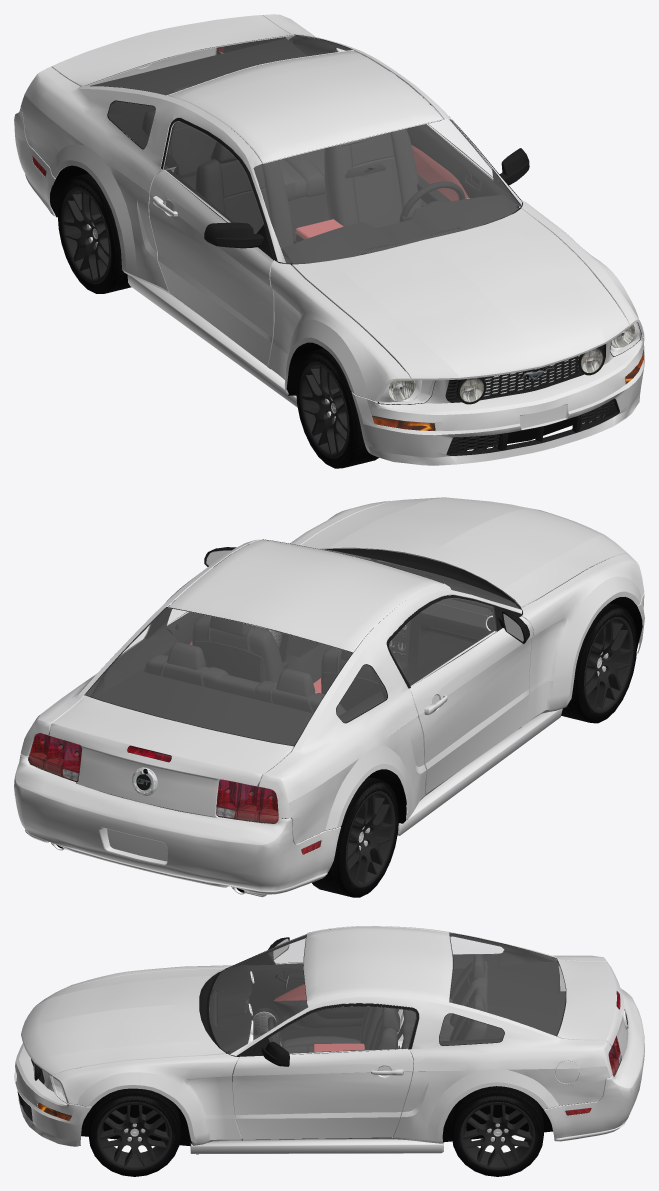
File: 2005_ford_mustang_gt.glb
The picture shows the model from 3 angles, top to bottom: view 1: azimuth 30°, elevation 25°; view 2: azimuth 150°, elevation 25°; view 3: azimuth 270°, elevation 25°; orthographic projection. The views are drawn at different scales.
Parts seen in each view (by area): view 1: hood_Carpaint Flakes Ruby_0, glass_Glass Clear_0, body_Carpaint Flakes Ruby_0, roof_Carpaint Flakes Ruby_0, msngv6front bumper_Carpaint Flakes Ruby_0, intdash, rightdoor_Carpaint Flakes Ruby_0, fseats_Material #205_0, fenders_Carpaint Flakes Ruby_0, trunk_Carpaint Flakes Ruby_0, rightdoor_Material #300_0, msngv6front bumper_Car_Plastics_0 (+19 smaller); view 2: glass_Glass Clear_0, msngv6rearbumper_Carpaint Flakes Ruby_0, body_Carpaint Flakes Ruby_0, hood_Carpaint Flakes Ruby_0, roof_Carpaint Flakes Ruby_0, trunk_Carpaint Flakes Ruby_0, intdash, rightdoor_Carpaint Flakes Ruby_0, fenders_Carpaint Flakes Ruby_0, rightdoor_Material #300_0, rseats_Material #205_0, tailight_Material #78_0 (+15 smaller); view 3: body_Carpaint Flakes Ruby_0, glass_Glass Clear_0, hood_Carpaint Flakes Ruby_0, leftdoor_Carpaint Flakes Ruby_0, roof_Carpaint Flakes Ruby_0, fenders_Carpaint Flakes Ruby_0, intdash, leftdoor_Glass Clear_0, rightdoor_Car_Plastics_0, msngv6rearbumper_Carpaint Flakes Ruby_0, trunk_Carpaint Flakes Ruby_0, sideskirt (+12 smaller).
Boxes of the visible parts, <box> form: hood_Carpaint Flakes Ruby_0: <box>292,209,629,380</box>; glass_Glass Clear_0: <box>87,35,520,263</box>; body_Carpaint Flakes Ruby_0: <box>20,14,521,317</box>; roof_Carpaint Flakes Ruby_0: <box>168,50,443,163</box>; msngv6front bumper_Carpaint Flakes Ruby_0: <box>351,334,644,465</box>; intdash: <box>90,38,519,354</box>; rightdoor_Carpaint Flakes Ruby_0: <box>149,170,274,366</box>; fseats_Material #205_0: <box>195,128,421,248</box>; fenders_Carpaint Flakes Ruby_0: <box>268,200,644,401</box>; trunk_Carpaint Flakes Ruby_0: <box>51,15,293,86</box>; rightdoor_Material #300_0: <box>164,122,263,233</box>; msngv6front bumper_Car_Plastics_0: <box>445,344,619,455</box>; glass_Glass Clear_0: <box>86,544,519,745</box>; msngv6rearbumper_Carpaint Flakes Ruby_0: <box>14,754,340,894</box>; body_Carpaint Flakes Ruby_0: <box>20,539,521,844</box>; hood_Carpaint Flakes Ruby_0: <box>300,497,628,607</box>; roof_Carpaint Flakes Ruby_0: <box>168,539,442,652</box>; trunk_Carpaint Flakes Ruby_0: <box>49,695,293,817</box>; intdash: <box>94,559,536,792</box>; rightdoor_Carpaint Flakes Ruby_0: <box>410,616,533,794</box>; fenders_Carpaint Flakes Ruby_0: <box>290,500,644,724</box>; rightdoor_Material #300_0: <box>389,598,496,686</box>; rseats_Material #205_0: <box>144,642,346,722</box>; tailight_Material #78_0: <box>28,733,278,823</box>; body_Carpaint Flakes Ruby_0: <box>230,926,612,1143</box>; glass_Glass Clear_0: <box>209,933,565,1053</box>; hood_Carpaint Flakes Ruby_0: <box>21,968,225,1077</box>; leftdoor_Carpaint Flakes Ruby_0: <box>232,1048,413,1139</box>; roof_Carpaint Flakes Ruby_0: <box>303,926,452,1001</box>; fenders_Carpaint Flakes Ruby_0: <box>53,965,241,1145</box>; intdash: <box>209,961,566,1081</box>; leftdoor_Glass Clear_0: <box>269,1006,415,1053</box>; rightdoor_Car_Plastics_0: <box>242,937,399,1041</box>; msngv6rearbumper_Carpaint Flakes Ruby_0: <box>543,988,644,1141</box>; trunk_Carpaint Flakes Ruby_0: <box>557,958,628,1060</box>; sideskirt: <box>190,1044,443,1153</box>.
Size of the model in its own units: 1.93 by 1.27 by 4.31.
Materials: 71 (44 with a texture image).
